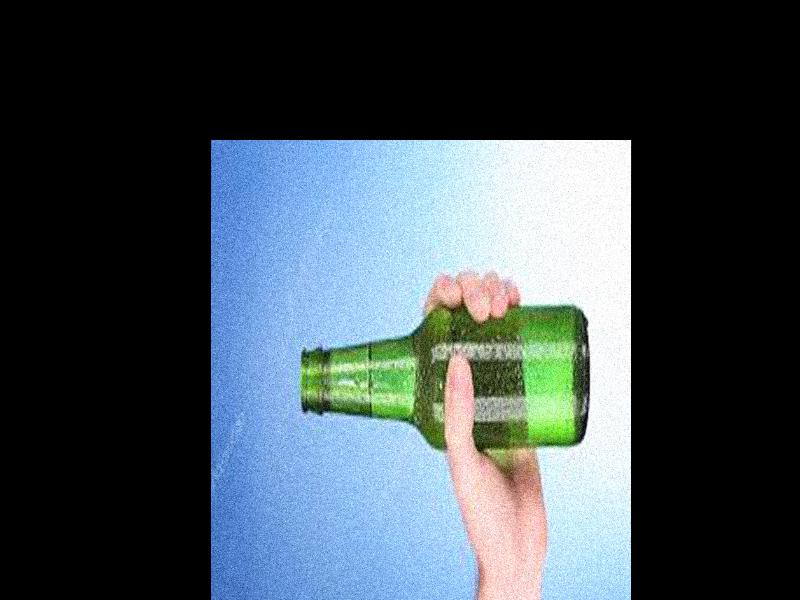Beer: (299, 308, 590, 446)
